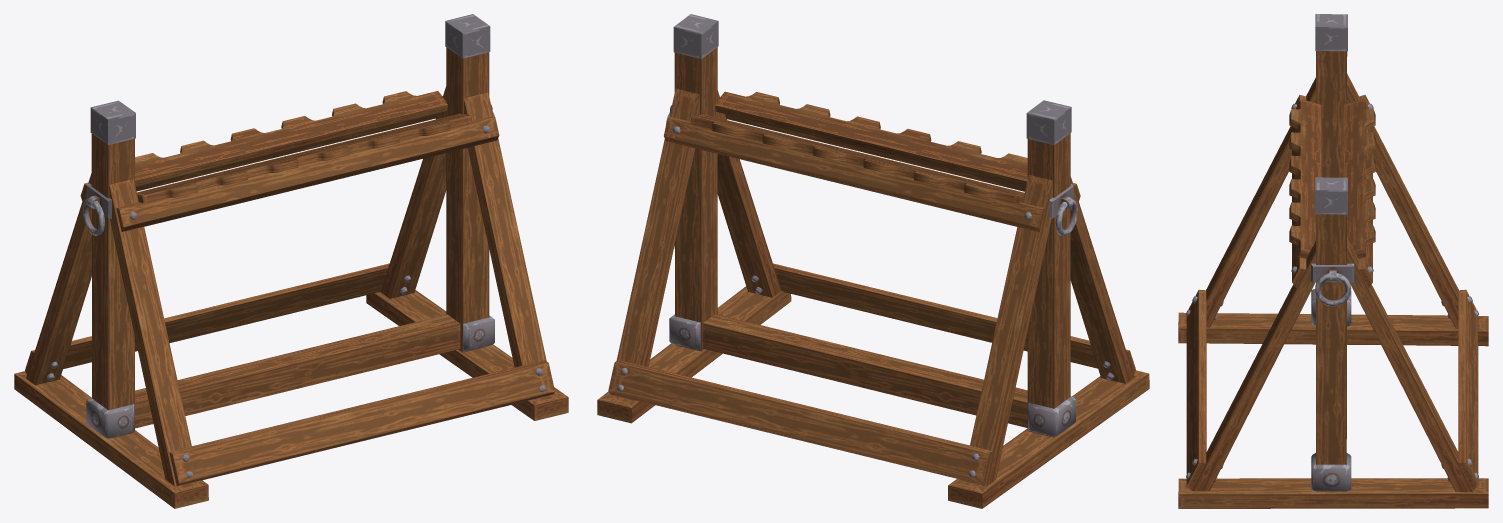
The model's file is WeaponStand.gltf.
The picture shows the model from 3 angles, left to right: view 1: azimuth 30°, elevation 25°; view 2: azimuth 150°, elevation 25°; view 3: azimuth 270°, elevation 25°; orthographic projection. The views are drawn at different scales.
Parts seen in each view (by area): view 1: WeaponStand; view 2: WeaponStand; view 3: WeaponStand.
Part boxes in pixels (bbox=[...]): WeaponStand: bbox=[14, 14, 568, 508]; WeaponStand: bbox=[597, 14, 1149, 508]; WeaponStand: bbox=[1178, 14, 1488, 508].
Size of the model in its own units: 1.39 by 1.11 by 0.9831.
2 materials, 2 textured.
